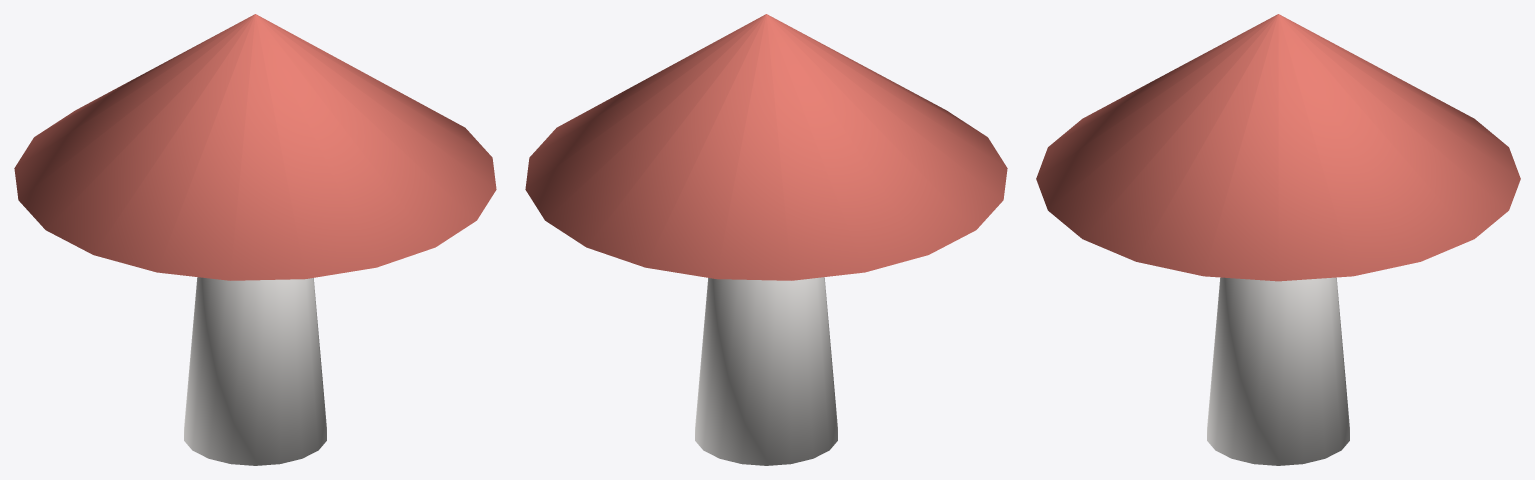
The model's file is mushroom.glb.
3 views of the same model, side by side, from view 1: azimuth 30°, elevation 25°; view 2: azimuth 150°, elevation 25°; view 3: azimuth 270°, elevation 25° (orthographic).
Parts seen in each view (by area): view 1: cap, stipe; view 2: cap, stipe; view 3: cap, stipe.
Part boxes in pixels (bbox=[...]): cap: bbox=[14, 14, 496, 280]; stipe: bbox=[184, 277, 326, 465]; cap: bbox=[525, 14, 1007, 280]; stipe: bbox=[695, 277, 837, 465]; cap: bbox=[1036, 14, 1520, 281]; stipe: bbox=[1207, 277, 1349, 465].
Size of the model in its own units: 1.2 by 1.15 by 1.2.
